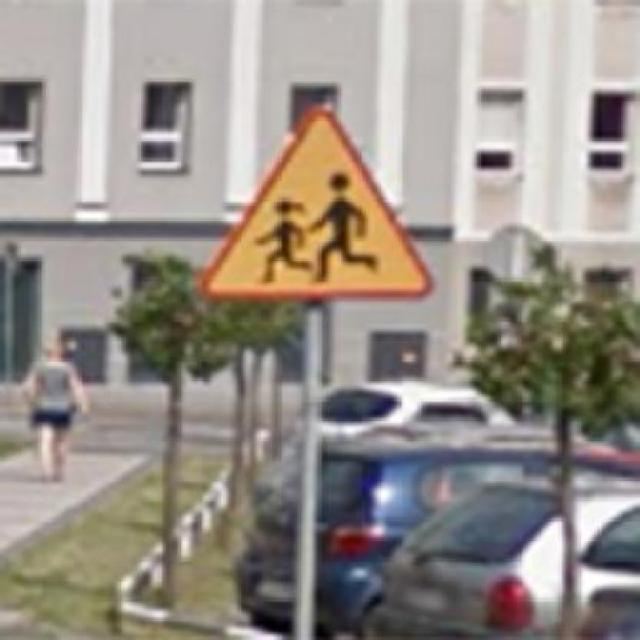Dzieci: (198, 106, 434, 299)
